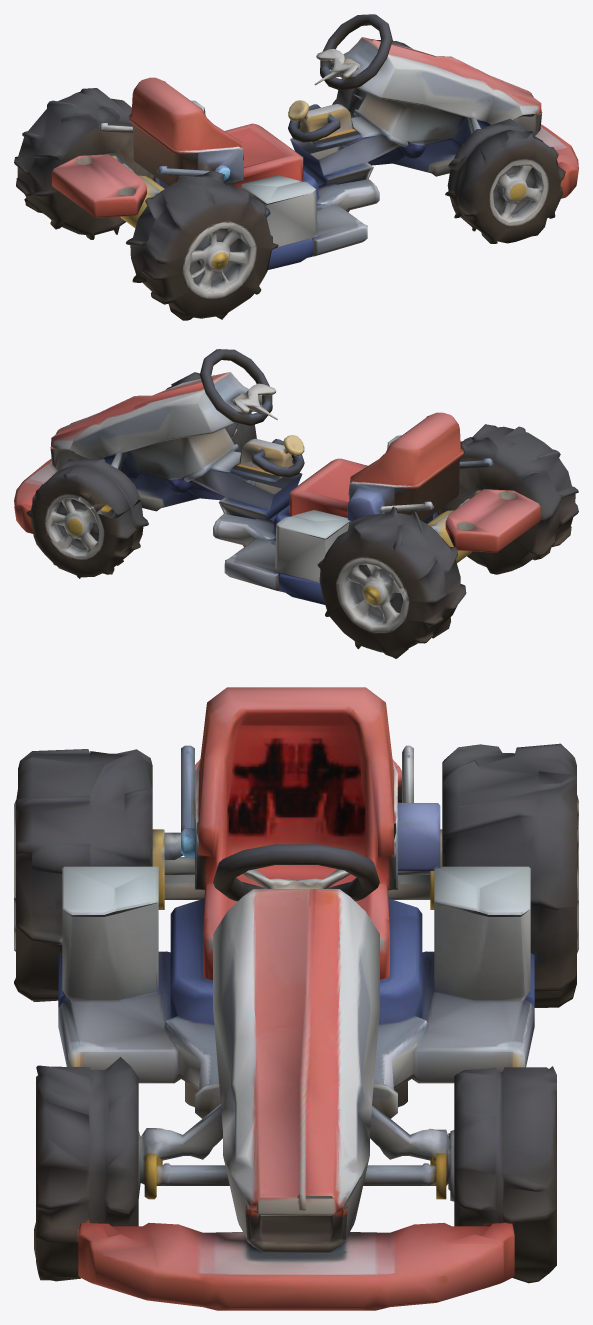
3 renders of one model, top to bottom at view 1: azimuth 30°, elevation 25°; view 2: azimuth 150°, elevation 25°; view 3: azimuth 270°, elevation 25°, orthographic. The views are drawn at different scales.
Parts seen in each view (by area): view 1: tripo_node_4bc0e5b1-04d1-46d0-8e0a-8e58a86c82e6; view 2: tripo_node_4bc0e5b1-04d1-46d0-8e0a-8e58a86c82e6; view 3: tripo_node_4bc0e5b1-04d1-46d0-8e0a-8e58a86c82e6.
Boxes of the visible parts, x1,y1,x2,y2 form: tripo_node_4bc0e5b1-04d1-46d0-8e0a-8e58a86c82e6: (14,14,578,320); tripo_node_4bc0e5b1-04d1-46d0-8e0a-8e58a86c82e6: (14,349,578,658); tripo_node_4bc0e5b1-04d1-46d0-8e0a-8e58a86c82e6: (14,687,578,1310).
Size of the model in its own units: 1.54 by 0.6 by 0.8472.
1 material, 1 textured.
